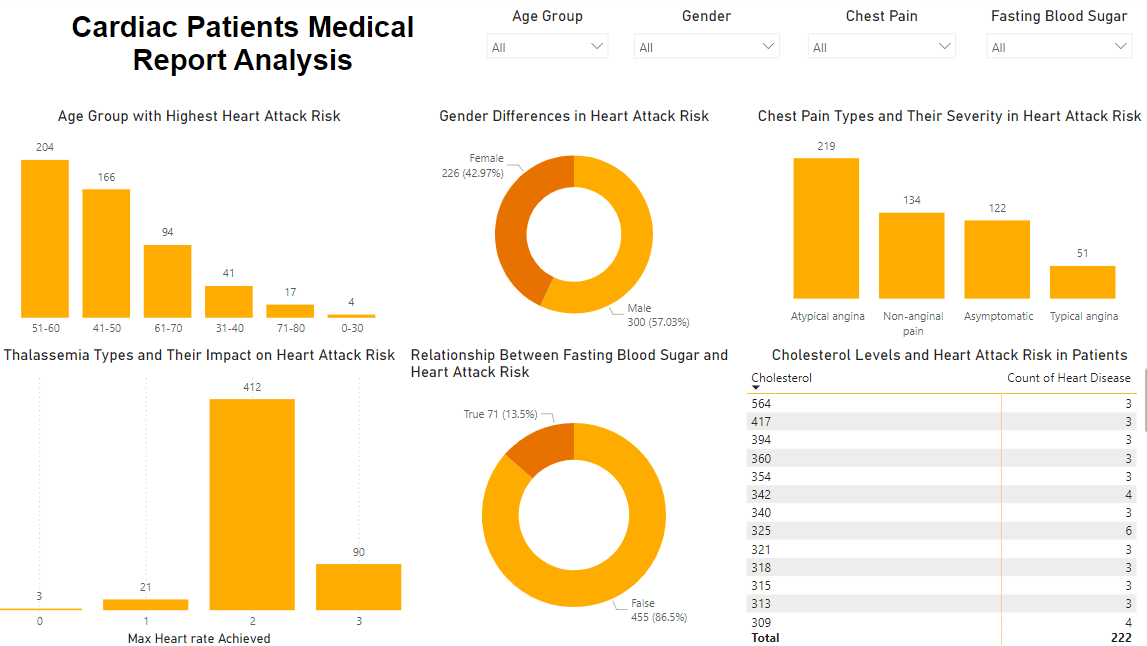

Layout of this report page (visuals, bound fields, positions):
{"tool":"powerbi","page":{"name":"Page 1","canvas":[1280,720],"ordinal":0},"visuals":[{"type":"columnChart","title":"Age Group with Highest Heart Attack Risk","fields":{"Category":["heart.Age (groups)"],"Y":["CountNonNull(heart.Target)"]},"box":[1.4,123.5,454.2,262.1],"z":0},{"type":"donutChart","title":"Gender Differences in Heart Attack Risk","fields":{"Category":["heart.Sex"],"Y":["CountNonNull(heart.Target)"]},"box":[455.6,123.5,369.1,262.1],"z":1000},{"type":"columnChart","title":"Chest Pain Types and Their Severity in Heart Attack Risk","fields":{"Category":["heart.Chest Pain"],"Y":["CountNonNull(heart.Target)"]},"box":[824.7,123.5,455.6,262.1],"z":2000},{"type":"donutChart","title":"Relationship Between Fasting Blood Sugar and Heart Attack Risk","fields":{"Category":["heart.Fasting Blood Sugar"],"Y":["CountNonNull(heart.Target)"]},"box":[455.6,385.6,369.1,334.8],"z":3000},{"type":"clusteredColumnChart","title":"Thalassemia Types and Their Impact on Heart Attack Risk","fields":{"Category":["heart.Max Heart rate Achieved"],"Y":["CountNonNull(heart.Target)"]},"box":[1.4,385.6,454.2,334.8],"z":4000},{"type":"pivotTable","title":"Cholesterol Levels and Heart Attack Risk in Patients","fields":{"Rows":["heart.Serum Cholesterol"],"Values":["CountNonNull(heart.Target)"]},"box":[824.7,385.6,455.6,334.8],"z":5000},{"type":"textbox","box":[30.2,13.7,492.6,86.4],"z":6000},{"type":"slicer","title":"Age Group","fields":{"Values":["heart.Age (groups)"]},"box":[534.4,13.5,154.1,86.8],"z":6001},{"type":"slicer","title":"Gender","fields":{"Values":["heart.Sex"]},"box":[696,14,180,86],"z":6002},{"type":"slicer","title":"Chest Pain","fields":{"Values":["heart.Chest Pain"]},"box":[887,14,183,86],"z":6003},{"type":"slicer","title":"Fasting Blood Sugar","fields":{"Values":["heart.Fasting Blood Sugar"]},"box":[1083,14,180,86],"z":6004}]}

Visuals, with their boxes in screenshot pixels (x1, y1, x2, y2), scaled from the page's 1280x720 canvas onto the 1147x646 screenshot:
"Age Group with Highest Heart Attack Risk" columnChart: bbox(1, 111, 408, 346)
"Gender Differences in Heart Attack Risk" donutChart: bbox(408, 111, 739, 346)
"Chest Pain Types and Their Severity in Heart Attack Risk" columnChart: bbox(739, 111, 1146, 346)
"Relationship Between Fasting Blood Sugar and Heart Attack Risk" donutChart: bbox(408, 346, 739, 645)
"Thalassemia Types and Their Impact on Heart Attack Risk" clusteredColumnChart: bbox(1, 346, 408, 645)
"Cholesterol Levels and Heart Attack Risk in Patients" pivotTable: bbox(739, 346, 1146, 645)
textbox: bbox(27, 12, 468, 90)
"Age Group" slicer: bbox(479, 12, 617, 90)
"Gender" slicer: bbox(624, 13, 785, 90)
"Chest Pain" slicer: bbox(795, 13, 959, 90)
"Fasting Blood Sugar" slicer: bbox(970, 13, 1132, 90)
